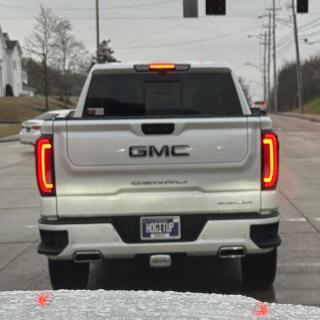license: (140, 216, 183, 241)
